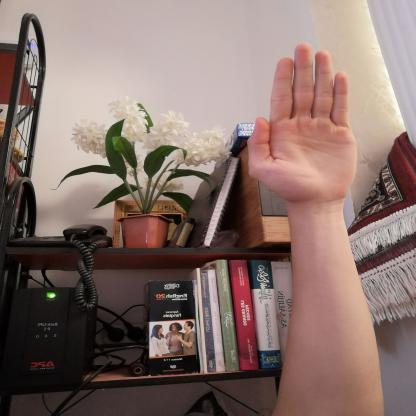SEEN: (236, 34, 369, 214)
